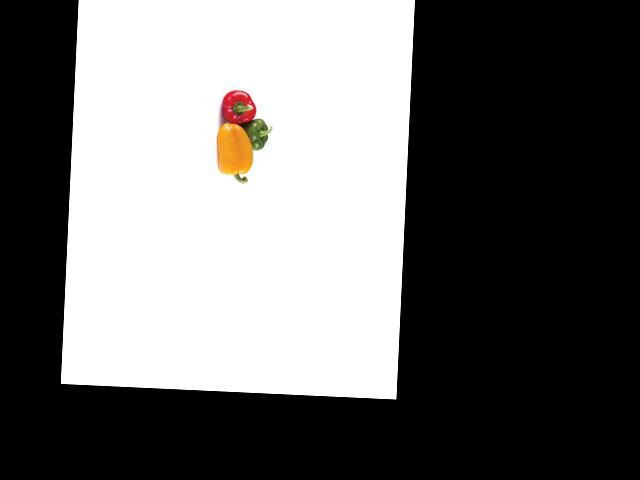bell_pepper: (238, 114, 273, 154)
